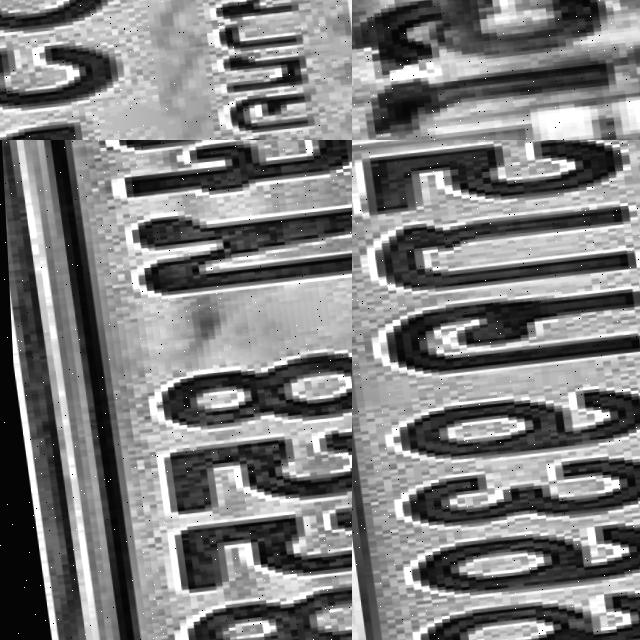license-plate: (0, 140, 352, 640), (352, 140, 640, 640), (0, 0, 352, 140), (352, 0, 640, 140)
